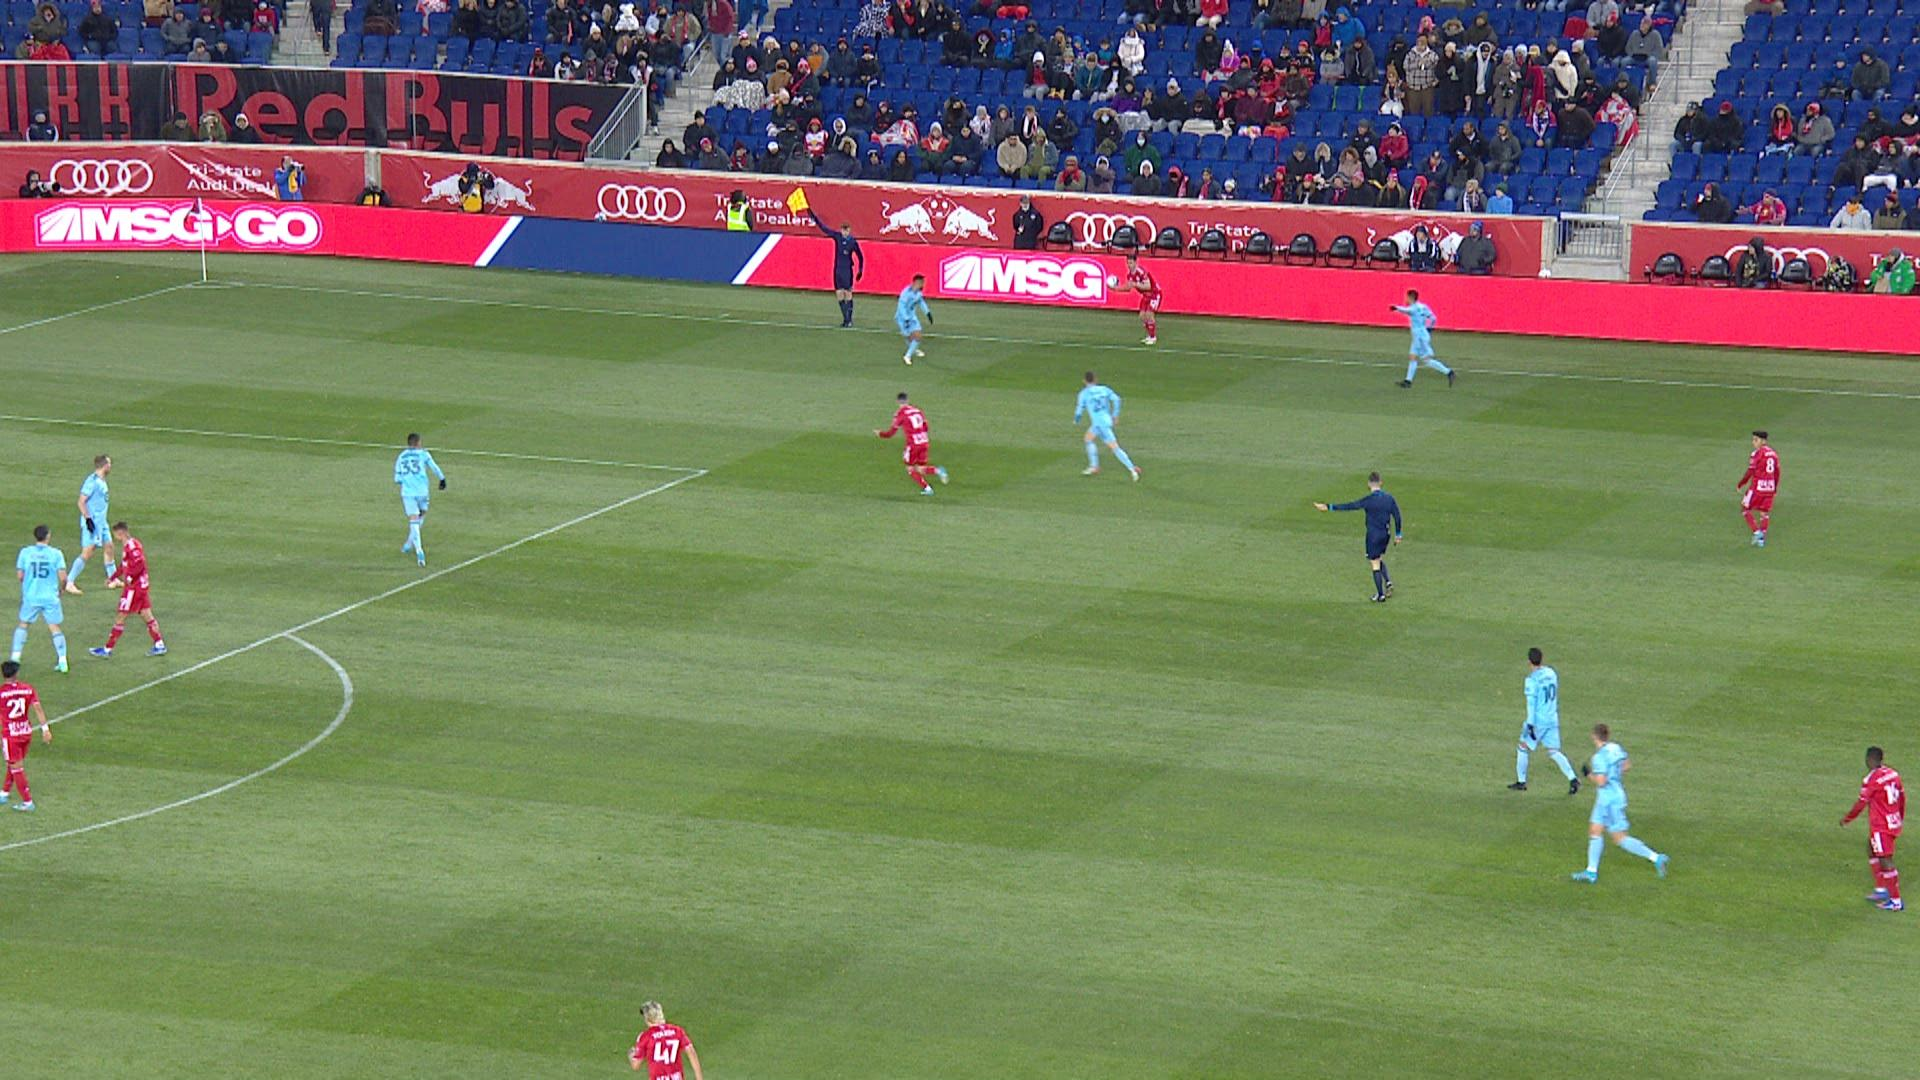football: (1109, 277, 1118, 285)
